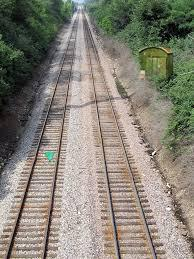Dust_screen: (41, 148, 58, 164)
Green_house: (135, 43, 176, 88)
